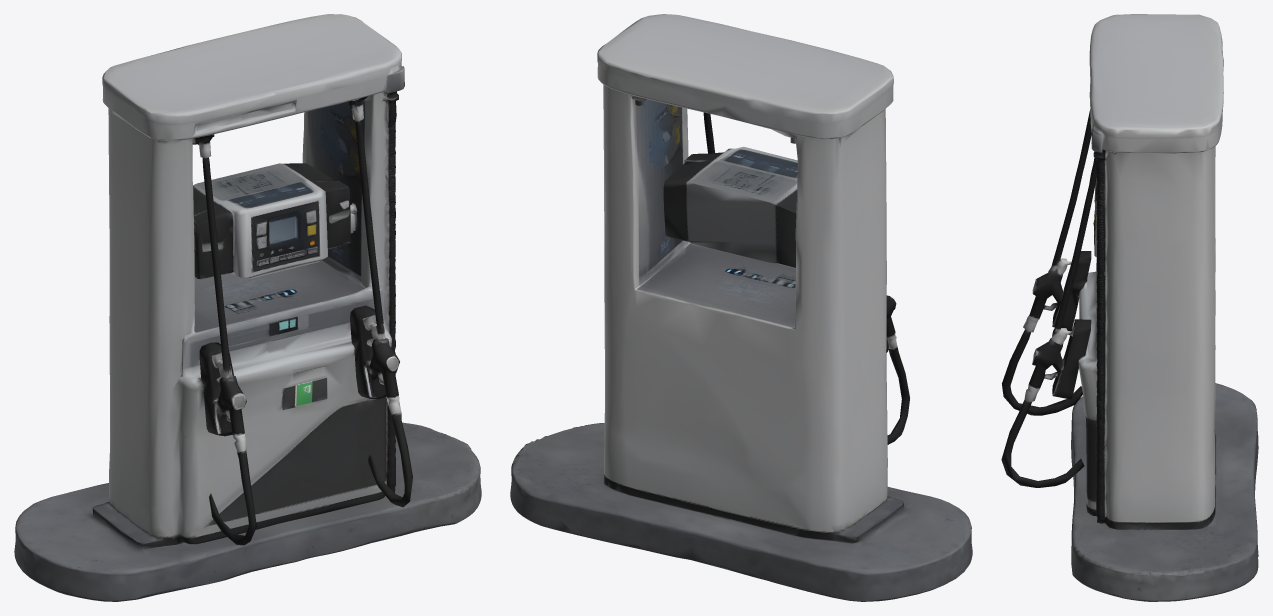
File: aparat-gorivo.glb
3 views of the same model, side by side, from view 1: azimuth 30°, elevation 25°; view 2: azimuth 150°, elevation 25°; view 3: azimuth 270°, elevation 25° (orthographic). The views are drawn at different scales.
Parts seen in each view (by area): view 1: tripo_node_5d186b5b-841c-4106-b7f0-13818d86697c; view 2: tripo_node_5d186b5b-841c-4106-b7f0-13818d86697c; view 3: tripo_node_5d186b5b-841c-4106-b7f0-13818d86697c.
Boxes of the visible parts, bbox=[...] form: tripo_node_5d186b5b-841c-4106-b7f0-13818d86697c: bbox=[14, 14, 481, 601]; tripo_node_5d186b5b-841c-4106-b7f0-13818d86697c: bbox=[510, 14, 972, 601]; tripo_node_5d186b5b-841c-4106-b7f0-13818d86697c: bbox=[1001, 14, 1258, 601].
Size of the model in its own units: 0.9616 by 0.9782 by 0.5261.
1 material, 1 textured.
